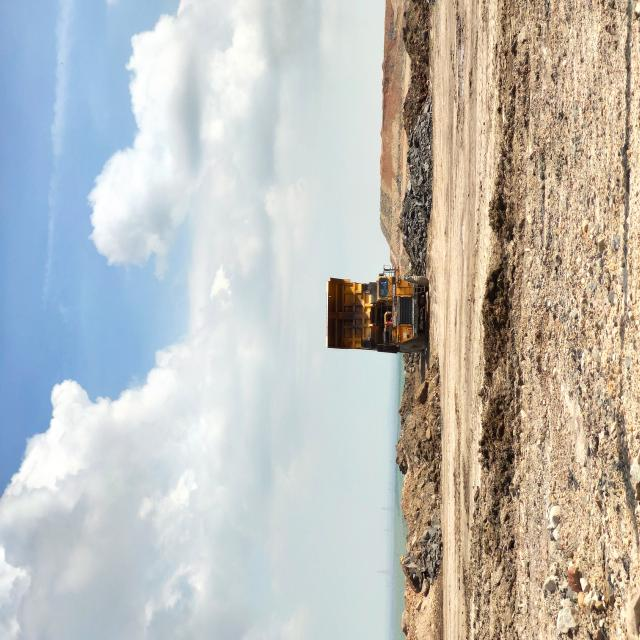dump_truck: (215, 438, 277, 573)
